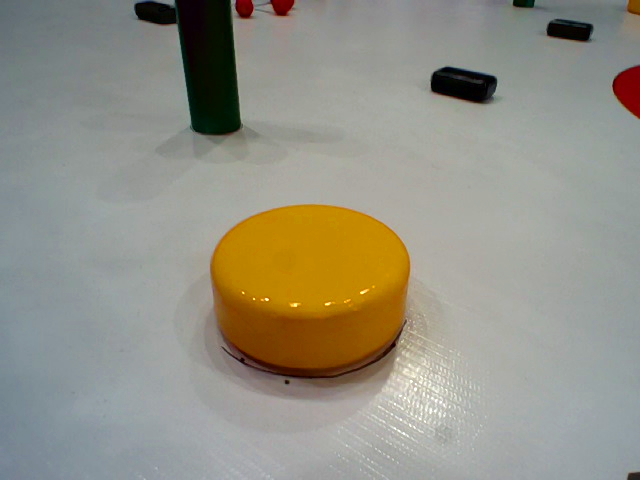black: (427, 63, 499, 104), (545, 16, 595, 42), (132, 1, 179, 27)
red: (271, 1, 293, 19), (234, 1, 252, 19)
yellow: (202, 201, 410, 370)
zhuzi: (170, 1, 245, 138)
